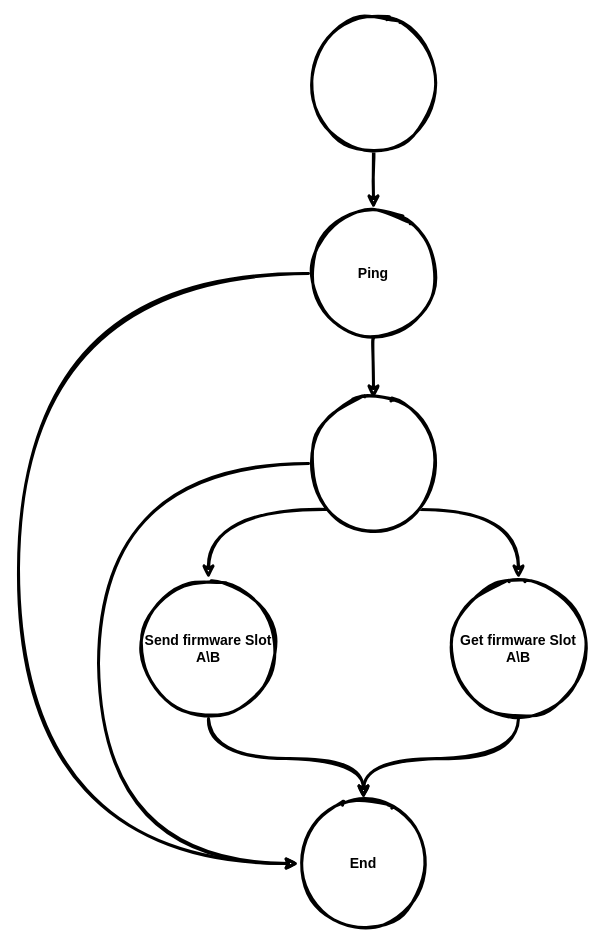
Image size: 608x947. Some labels were removed from this diagram. Here are the shapes that lost their labels. From the top down, the centre of each, then its label:
point 373,83: Start
point 373,463: Wait for action
